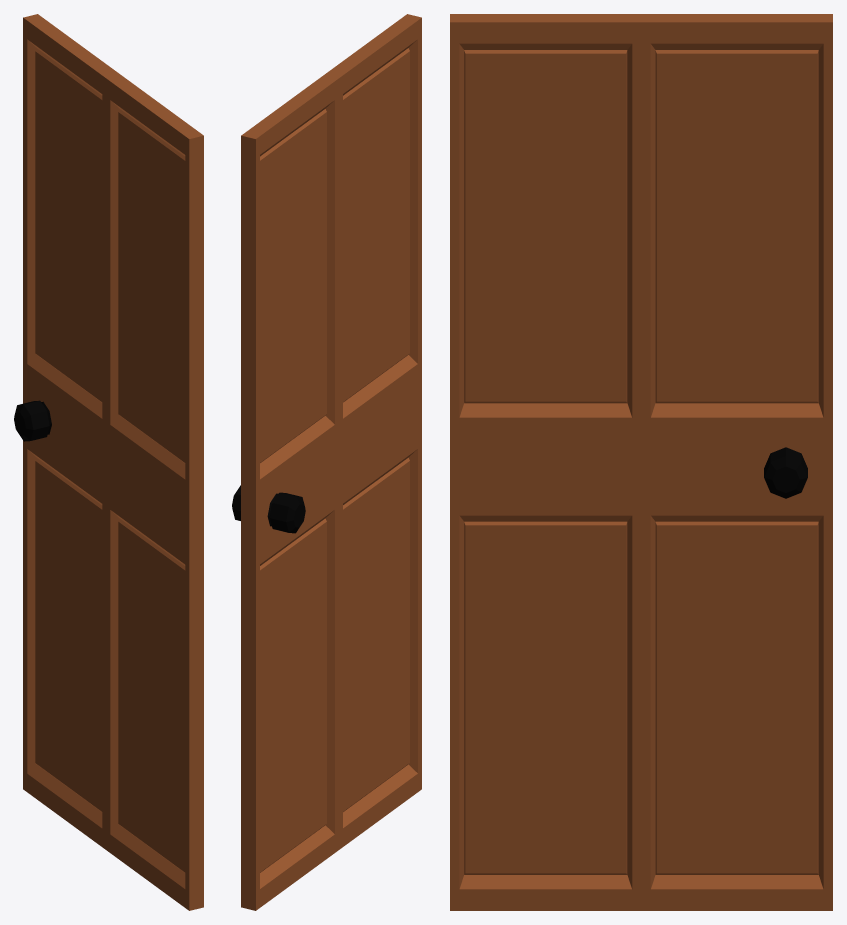
Rendered from door.fbx.
The picture shows the model from 3 angles, left to right: view 1: azimuth 30°, elevation 25°; view 2: azimuth 150°, elevation 25°; view 3: azimuth 270°, elevation 25°; orthographic projection. The views are drawn at different scales.
Visible parts, largest first — view 1: Door; view 2: Door; view 3: Door.
Part boxes in pixels (x1,y1,x2,y2): Door: (14,14,203,910); Door: (232,14,421,910); Door: (450,14,832,910).
Bounding box in the file's own units: 34.28 × 410 × 160.
